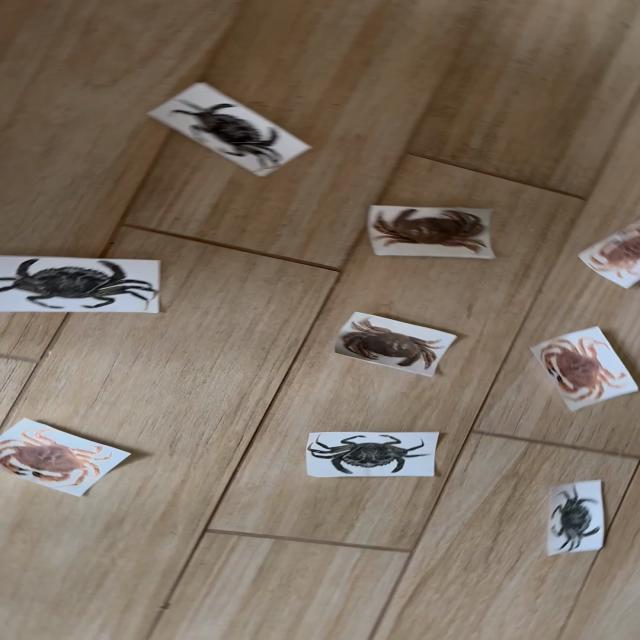egc: (0, 259, 157, 309), (177, 104, 280, 168), (307, 432, 439, 478), (549, 481, 603, 554)
